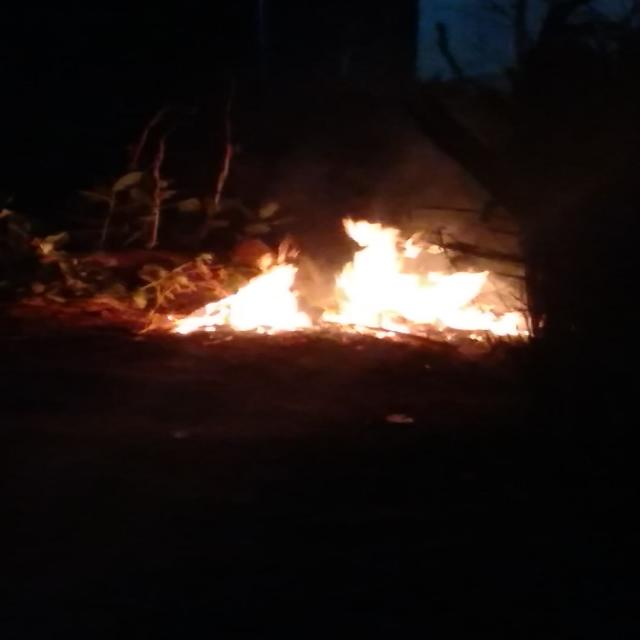Fire: (321, 220, 523, 347), (172, 264, 310, 339)
